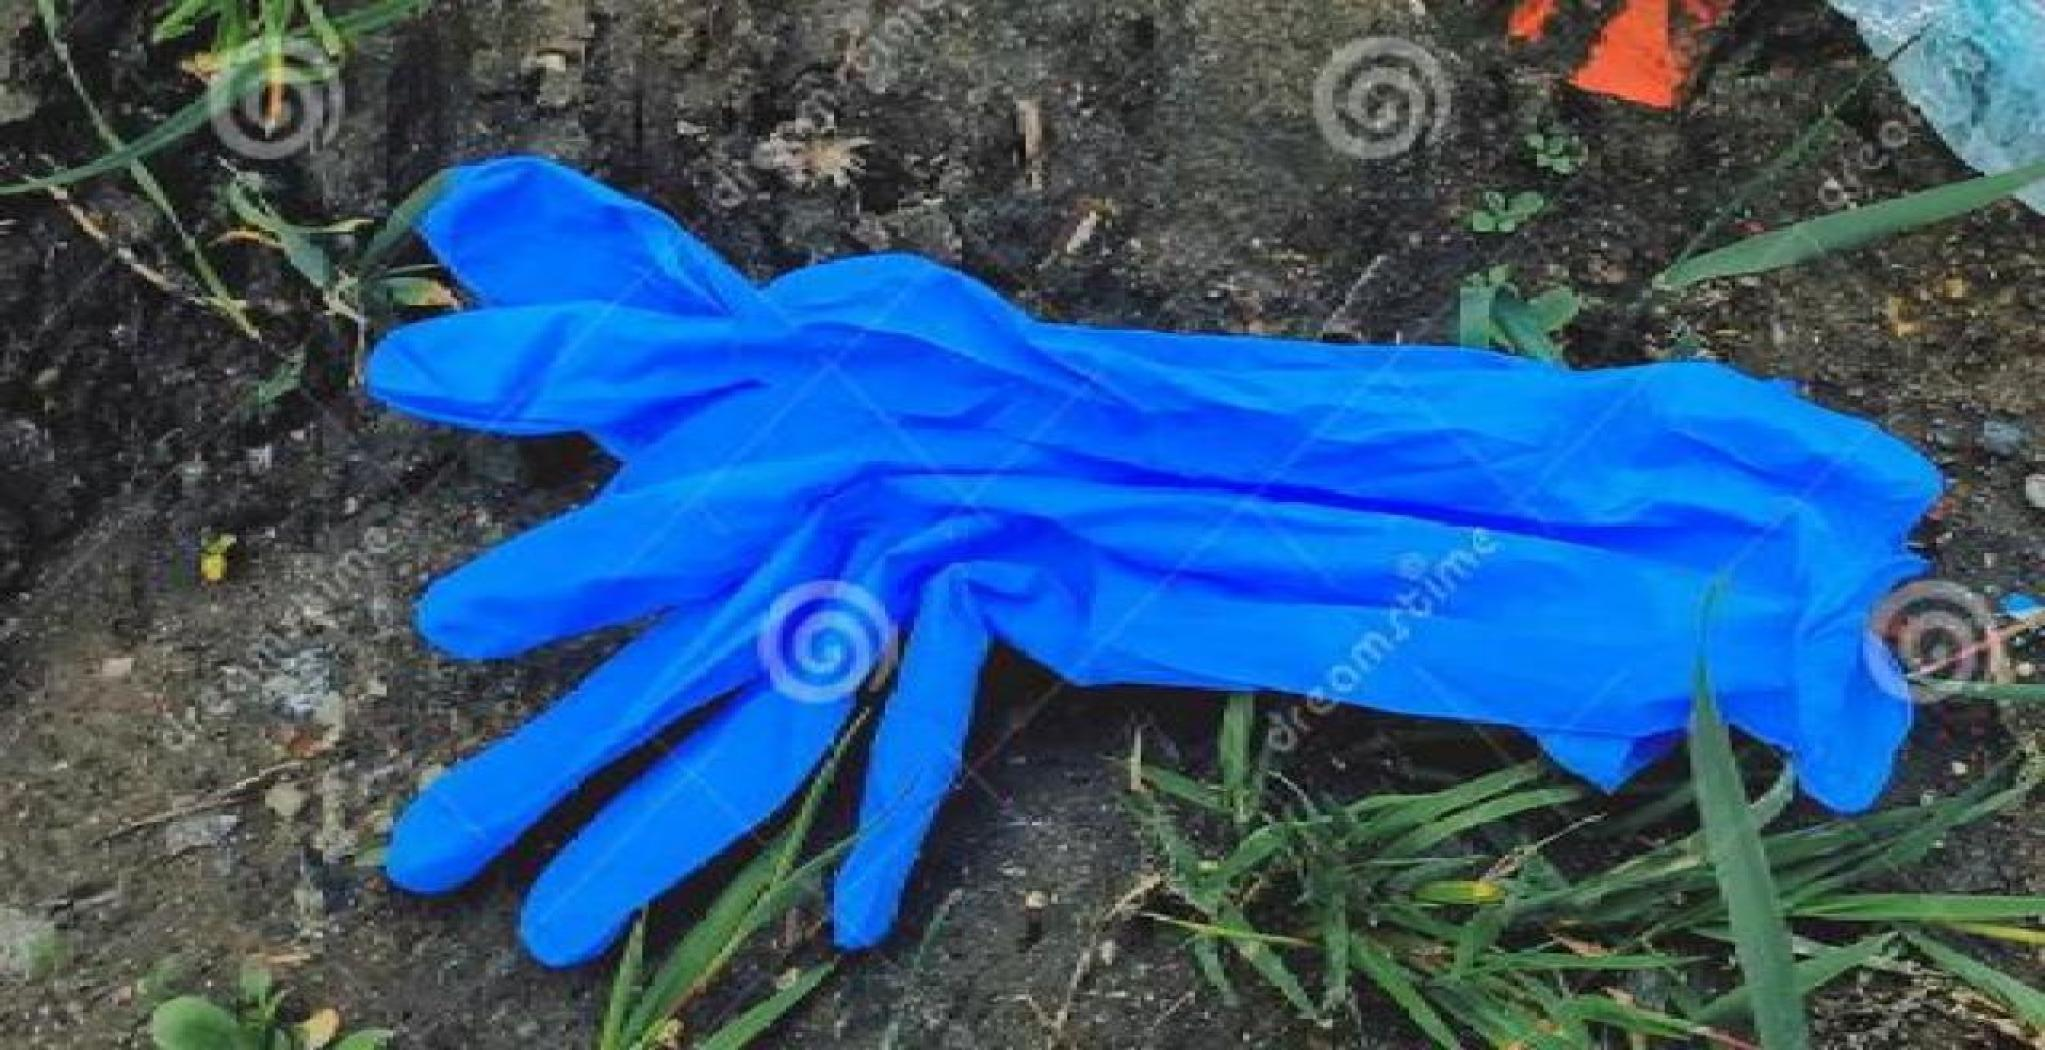gloved: (352, 151, 1950, 968)
